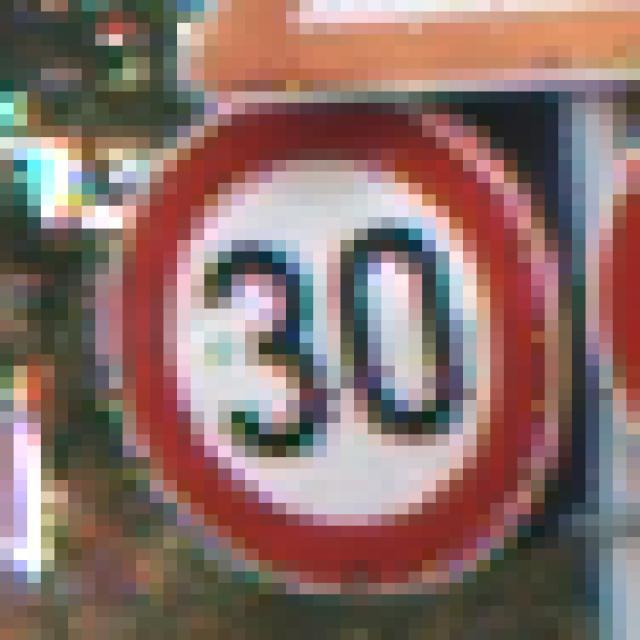Speed Limit -30-: (61, 62, 552, 578)
